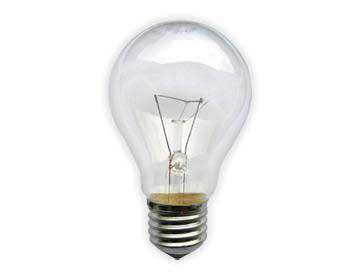Light_bulb: (102, 15, 255, 268)
